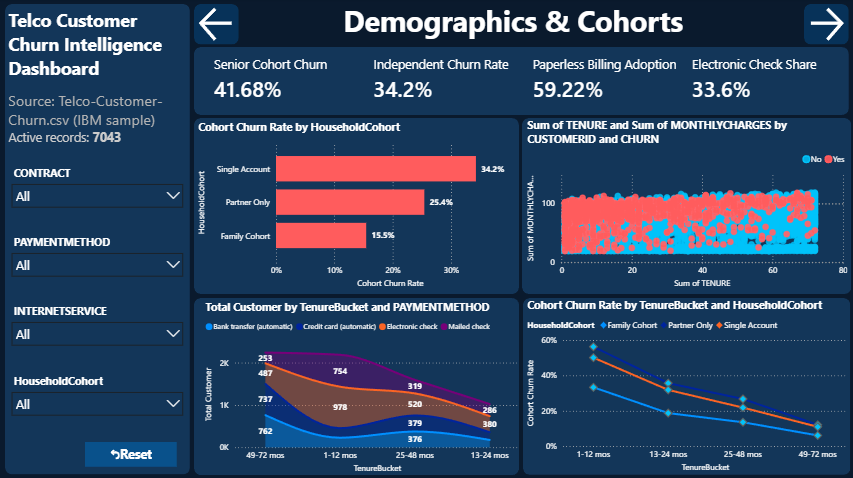

What the dashboard file says about the page in this screenshot:
{"tool":"powerbi","page":{"name":"Demographics & Cohorts","canvas":[1280,720],"ordinal":3},"visuals":[{"type":"group","id":"g1","title":"Group 1","box":[0,0,1280.2,720],"z":0},{"type":"shape","box":[0,0,1280.2,720],"z":0,"group":"g1"},{"type":"slicer","fields":{"Values":["TELCO_CUSTOMER_CHURN.CONTRACT"]},"box":[10.5,245,276.3,103.4],"z":0,"group":"g2"},{"type":"shape","box":[10.4,9.6,276.5,702.6],"z":1000,"group":"g1"},{"type":"cardVisual","fields":{"Data":["TELCO_CUSTOMER_CHURN.Senior Cohort Churn","TELCO_CUSTOMER_CHURN.Independent Churn Rate","TELCO_CUSTOMER_CHURN.Paperless Billing Adoption","TELCO_CUSTOMER_CHURN.Electronic Check Share"]},"box":[301.4,73.2,978.5,95.4],"z":1000},{"type":"slicer","fields":{"Values":["TELCO_CUSTOMER_CHURN.INTERNETSERVICE"]},"box":[10.5,451.7,276.3,103.4],"z":1000,"group":"g2"},{"type":"shape","box":[292.8,73.2,978.4,101.6],"z":2000,"group":"g1"},{"type":"slicer","fields":{"Values":["TELCO_CUSTOMER_CHURN.PAYMENTMETHOD"]},"box":[10.5,348.4,276.3,103.4],"z":2000,"group":"g2"},{"type":"actionButton","box":[130,663.2,137.4,37.3],"z":2000},{"type":"textbox","box":[510.9,0,542.2,70.2],"z":3000},{"type":"shape","box":[293,179.5,485.5,263],"z":3000,"group":"g1"},{"type":"slicer","fields":{"Values":["TELCO_CUSTOMER_CHURN.HouseholdCohort"]},"box":[10.5,555.1,276.3,94.7],"z":3000,"group":"g2"},{"type":"shape","box":[782.5,179.5,492,263],"z":4000,"group":"g1"},{"type":"group","id":"g2","title":"Group 2","box":[10.5,245,276.3,404.8],"z":4000},{"type":"clusteredBarChart","fields":{"Category":["TELCO_CUSTOMER_CHURN.HouseholdCohort"],"Y":["TELCO_CUSTOMER_CHURN.Cohort Churn Rate"]},"box":[294.3,182.2,479.5,255.4],"z":5000},{"type":"shape","box":[784.9,447.9,489,264.4],"z":5000,"group":"g1"},{"type":"scatterChart","fields":{"Series":["TELCO_CUSTOMER_CHURN.CHURN"],"X":["Sum(TELCO_CUSTOMER_CHURN.TENURE)"],"Y":["Sum(TELCO_CUSTOMER_CHURN.MONTHLYCHARGES)"],"Category":["TELCO_CUSTOMER_CHURN.CUSTOMERID"]},"box":[785.7,179.3,488.5,258.4],"z":6000},{"type":"shape","box":[292.7,447.8,485.7,264.6],"z":6000,"group":"g1"},{"type":"stackedAreaChart","fields":{"Y":["TELCO_CUSTOMER_CHURN.Total Customer"],"Category":["TELCO_CUSTOMER_CHURN.TenureBucket"],"Series":["TELCO_CUSTOMER_CHURN.PAYMENTMETHOD"]},"box":[304.7,451.1,479.5,262.9],"z":7000},{"type":"lineChart","fields":{"Category":["TELCO_CUSTOMER_CHURN.TenureBucket"],"Y":["TELCO_CUSTOMER_CHURN.Cohort Churn Rate"],"Series":["TELCO_CUSTOMER_CHURN.HouseholdCohort"]},"box":[785.7,448.1,488.5,264.4],"z":8000},{"type":"textbox","box":[10.5,9,276.3,236],"z":9000},{"type":"actionButton","box":[293,9.5,66.9,60.6],"z":10000},{"type":"actionButton","box":[1204.2,9.5,66.9,60.6],"z":11000}]}

Visuals, with their boxes in screenshot pixels (x1, y1, x2, y2), scaled from the page's 1280x720 canvas onto the 853x478 screenshot:
"Group 1" group: [x1=0, y1=0, x2=852, y2=477]
shape: [x1=0, y1=0, x2=852, y2=477]
slicer - TELCO_CUSTOMER_CHURN.CONTRACT: [x1=7, y1=163, x2=191, y2=231]
shape: [x1=7, y1=6, x2=191, y2=473]
cardVisual - TELCO_CUSTOMER_CHURN.Senior Cohort Churn x TELCO_CUSTOMER_CHURN.Independent Churn Rate: [x1=201, y1=49, x2=852, y2=112]
slicer - TELCO_CUSTOMER_CHURN.INTERNETSERVICE: [x1=7, y1=300, x2=191, y2=369]
shape: [x1=195, y1=49, x2=847, y2=116]
slicer - TELCO_CUSTOMER_CHURN.PAYMENTMETHOD: [x1=7, y1=231, x2=191, y2=300]
actionButton: [x1=87, y1=440, x2=178, y2=465]
textbox: [x1=340, y1=0, x2=702, y2=47]
shape: [x1=195, y1=119, x2=519, y2=294]
slicer - TELCO_CUSTOMER_CHURN.HouseholdCohort: [x1=7, y1=369, x2=191, y2=431]
shape: [x1=521, y1=119, x2=849, y2=294]
"Group 2" group: [x1=7, y1=163, x2=191, y2=431]
clusteredBarChart - TELCO_CUSTOMER_CHURN.HouseholdCohort x TELCO_CUSTOMER_CHURN.Cohort Churn Rate: [x1=196, y1=121, x2=516, y2=291]
shape: [x1=523, y1=297, x2=849, y2=473]
scatterChart - TELCO_CUSTOMER_CHURN.CHURN x Sum(TELCO_CUSTOMER_CHURN.TENURE): [x1=524, y1=119, x2=849, y2=291]
shape: [x1=195, y1=297, x2=519, y2=473]
stackedAreaChart - TELCO_CUSTOMER_CHURN.Total Customer x TELCO_CUSTOMER_CHURN.TenureBucket: [x1=203, y1=299, x2=523, y2=474]
lineChart - TELCO_CUSTOMER_CHURN.TenureBucket x TELCO_CUSTOMER_CHURN.Cohort Churn Rate: [x1=524, y1=297, x2=849, y2=473]
textbox: [x1=7, y1=6, x2=191, y2=163]
actionButton: [x1=195, y1=6, x2=240, y2=47]
actionButton: [x1=802, y1=6, x2=847, y2=47]
